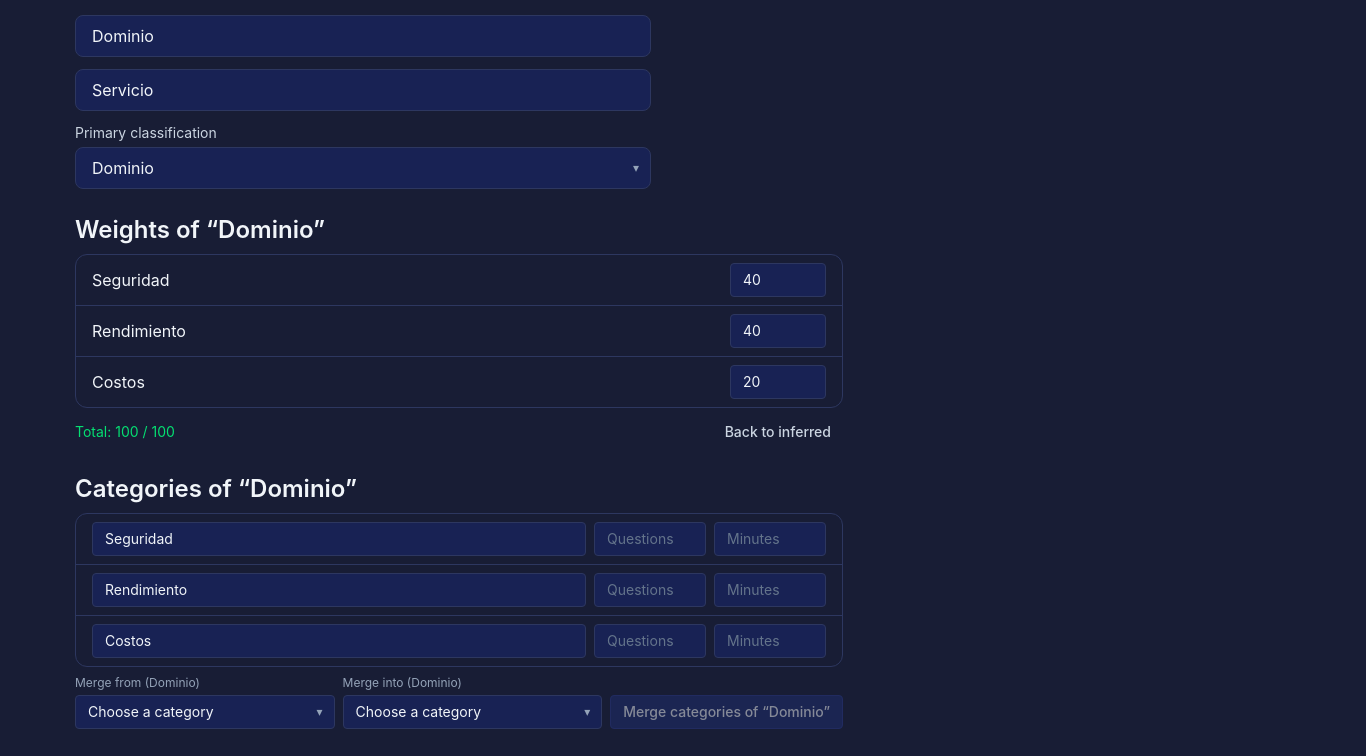
ExamEditPage: weights (S08-4) › weights that sum to 99 show "Total: 99 / 100" and keep save disabled; reaching 100 enables it
The image size is (1366, 756).
(page scrolled)
Replace the text in the number field named "Weight of “Costos”" with "19". click: (778, 382)
box: 730,365 -> 826,399
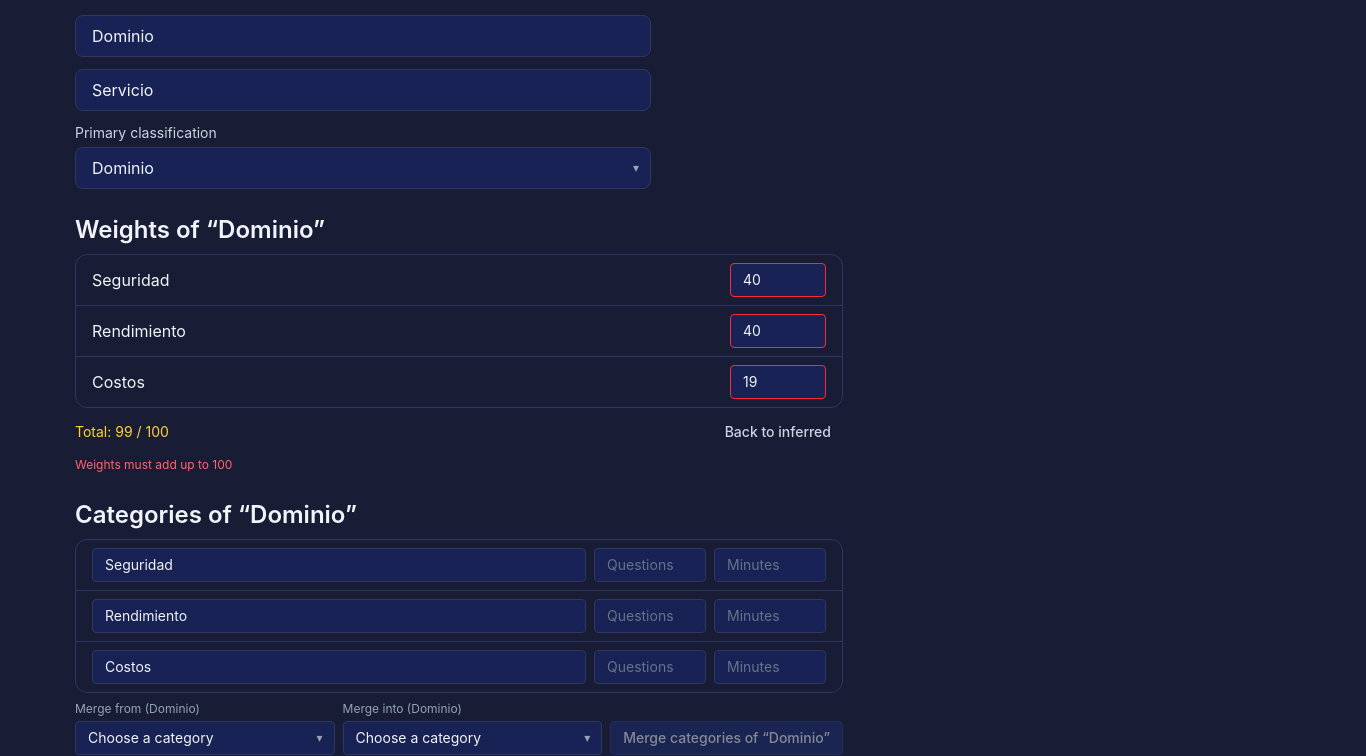
expect the text "Total: 99 / 100" is shown: met, box 75,422 -> 169,442
Replace the text in the number field named "Weight of “Costos”" with "20". click: (778, 382)
box: 730,365 -> 826,399
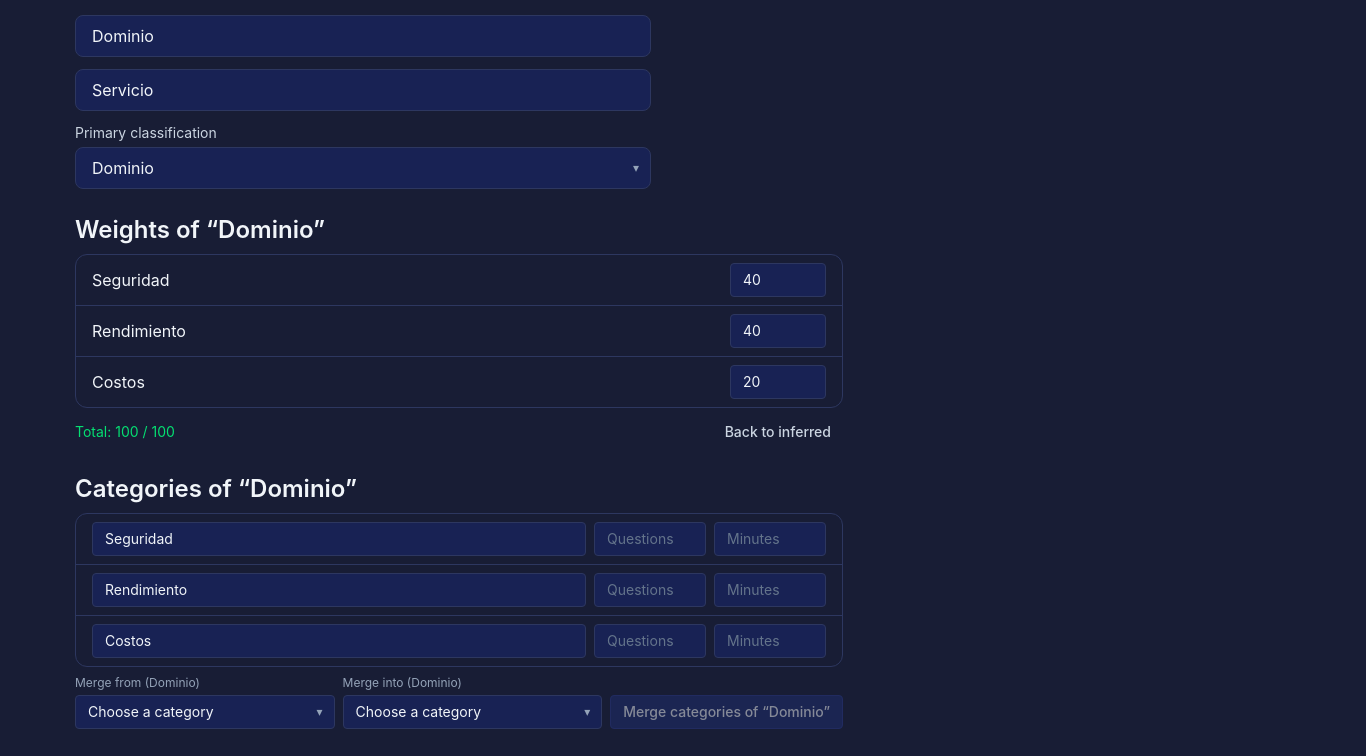
Replace the text in the number field named "Weight of “Seguridad”" with "39". click: (778, 280)
box: 730,263 -> 826,297
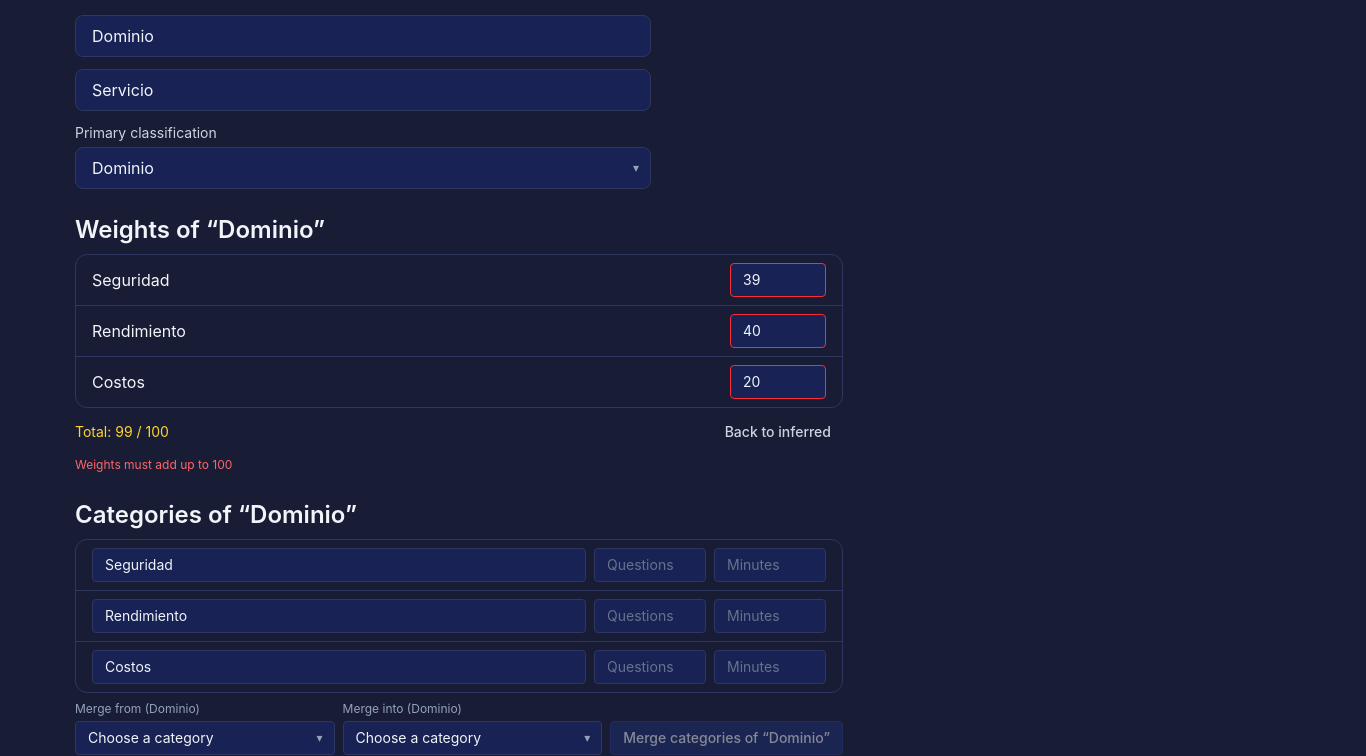
Replace the text in the number field named "Weight of “Rendimiento”" with "41". click: (778, 331)
box: 730,314 -> 826,348
(page scrolled)
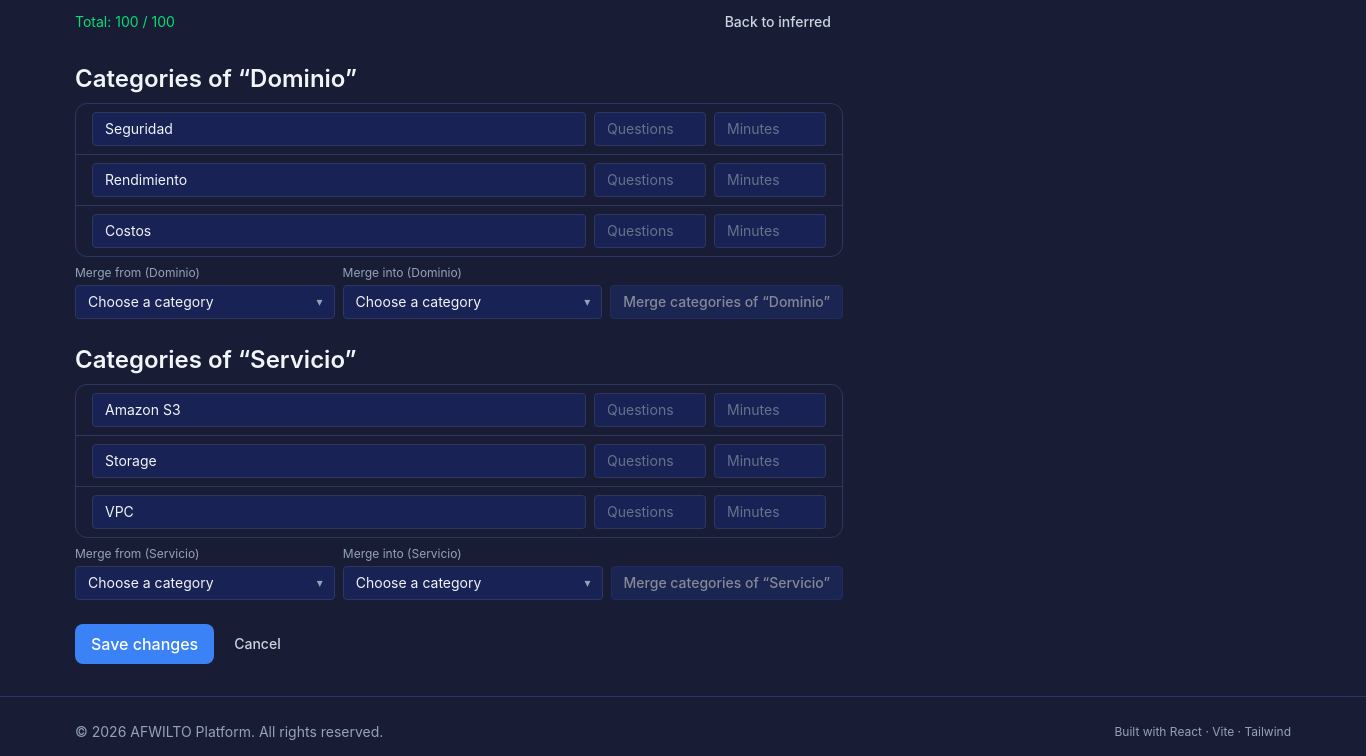
expect the text "Total: 100 / 100" is shown: met, box 75,12 -> 175,32
expect the button "Save changes" is enabled: met, box 75,624 -> 214,664
